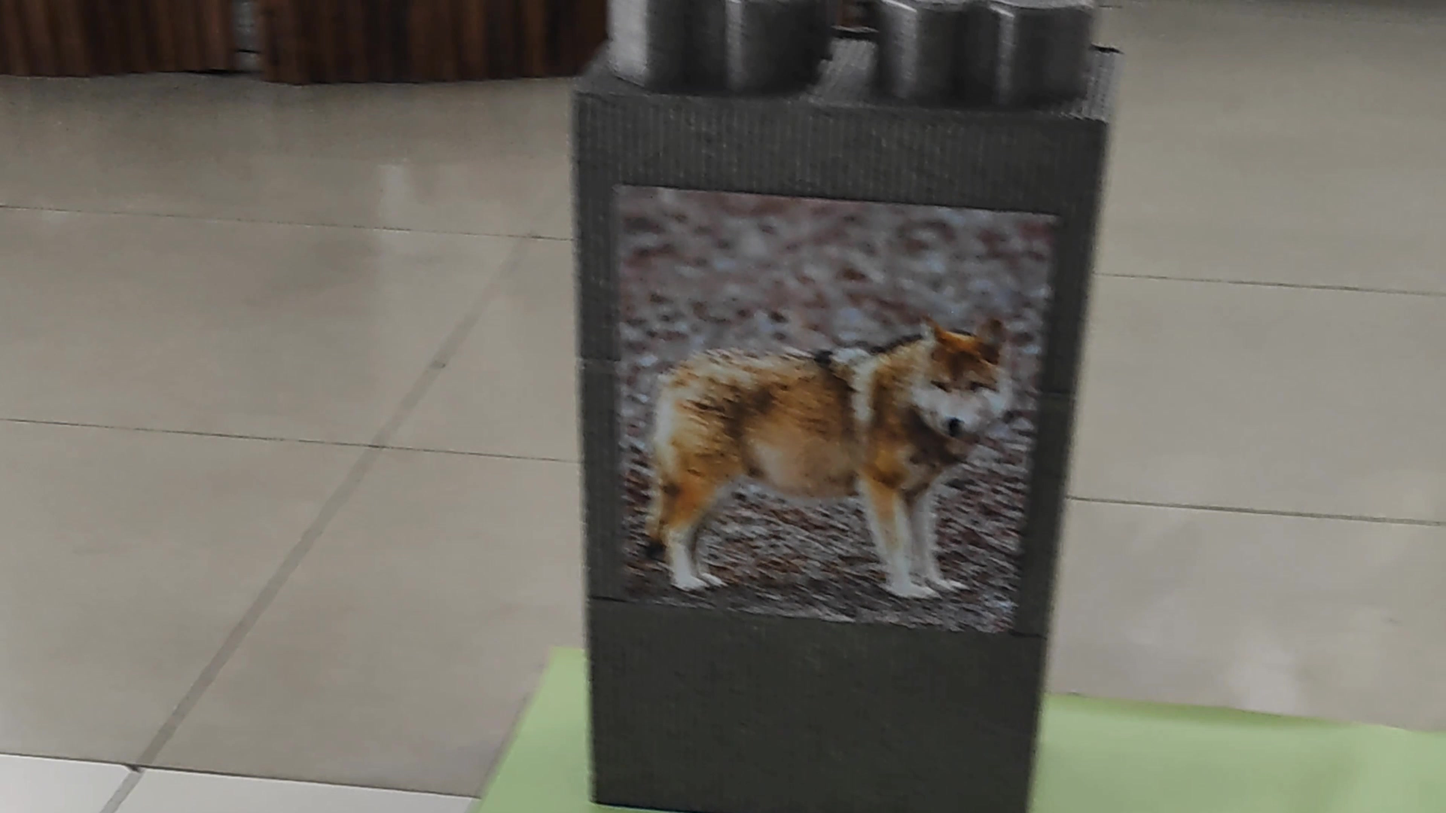wolf: (602, 291, 1025, 627)
